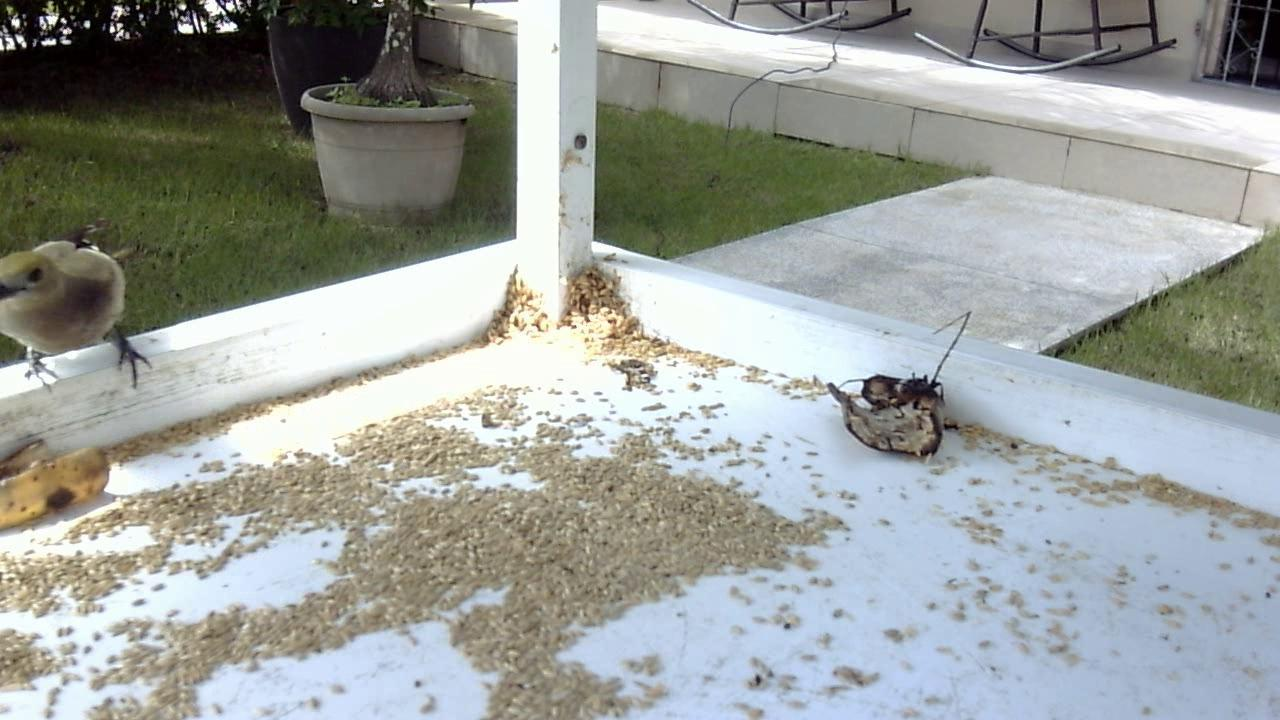sanhaco_do_coqueiro: (1, 217, 157, 403)
